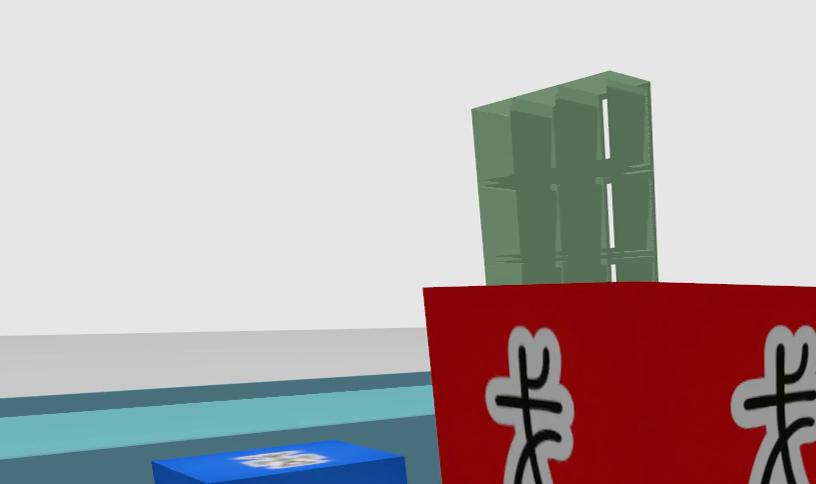KFS_FAKE: (425, 269, 816, 484), (484, 326, 573, 484), (733, 325, 816, 484)
KFS_REAL: (152, 440, 407, 484)
